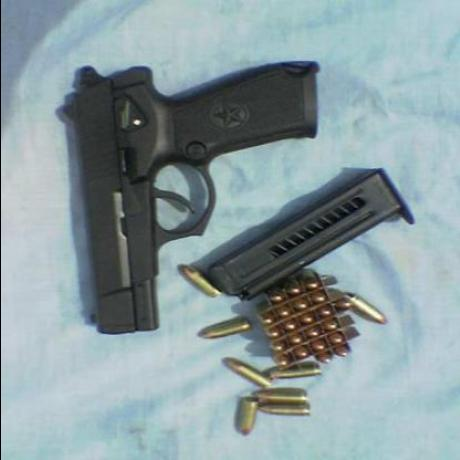weapon: (76, 56, 316, 336)
